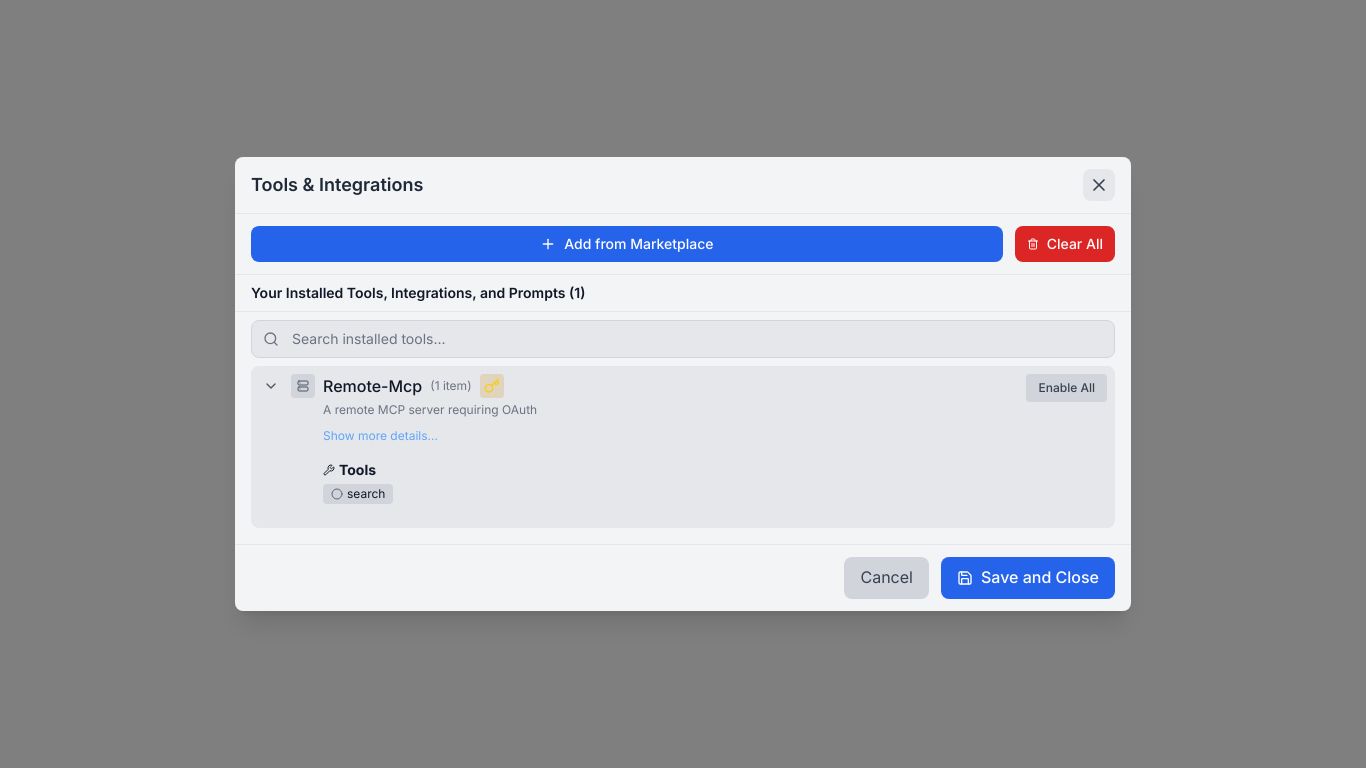
Test: ToolsPanel - MCP OAuth connect indicator › asks before discarding unsaved selections instead of redirecting away
The width and height of the screenshot is (1366, 768).
Click the button "search".
click(358, 494)  # box [323,484,394,504]
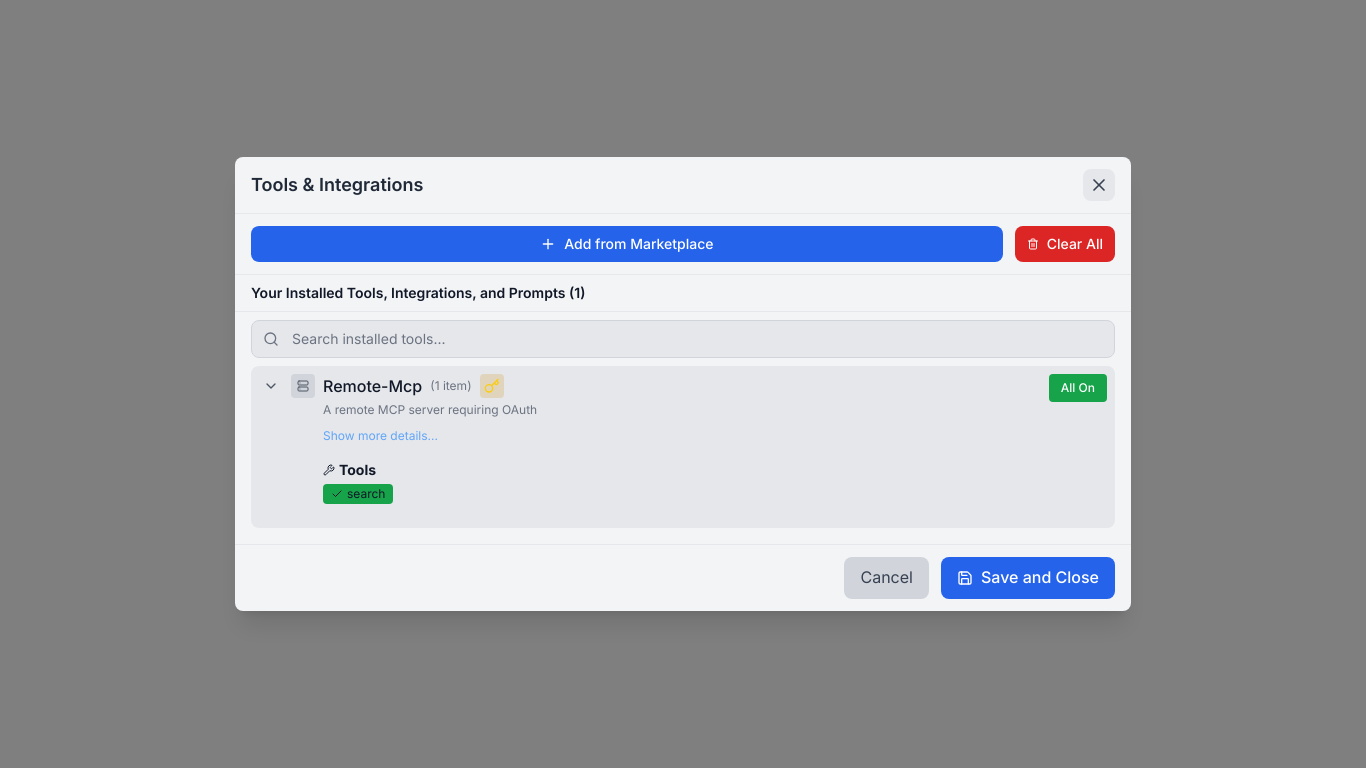
Click the button named "connect with oauth".
click(492, 386)  # box [480,374,504,398]
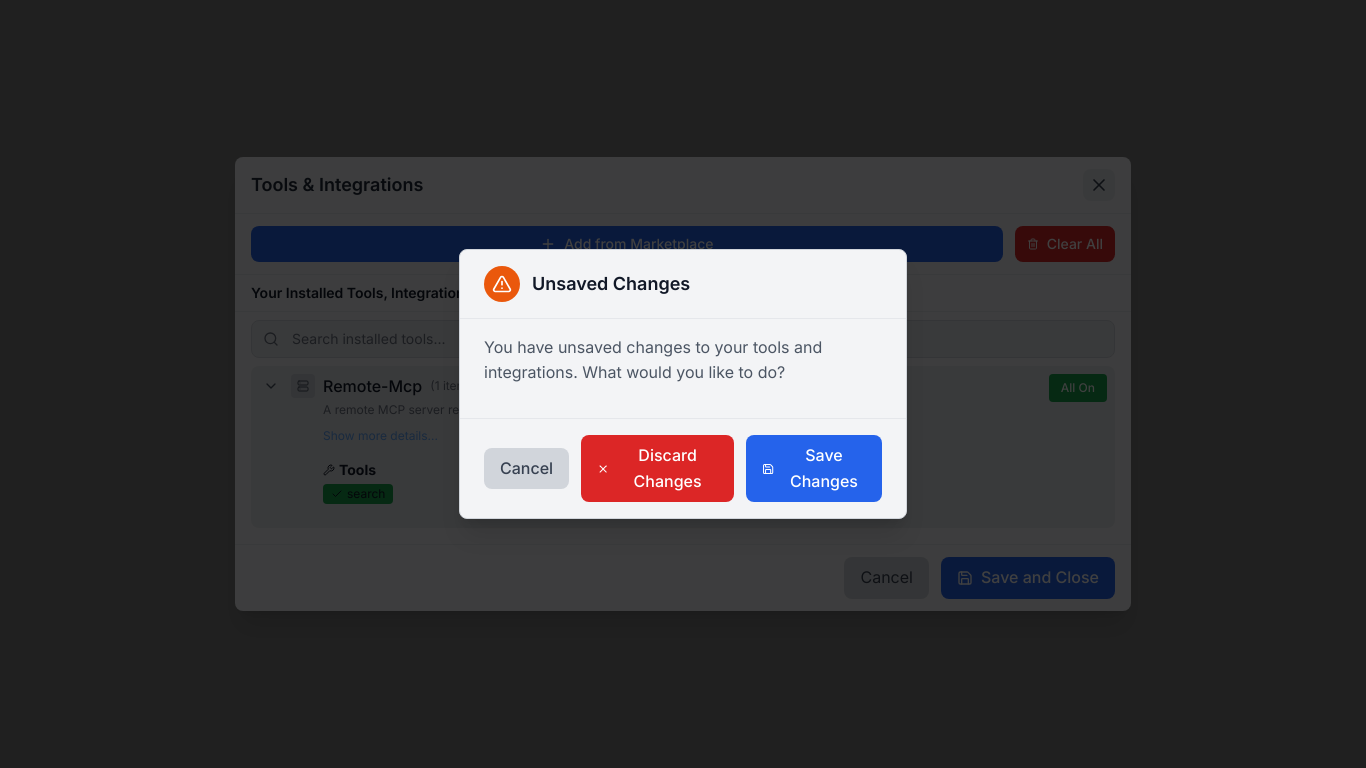
Check: the heading "Unsaved Changes" is shown, box [532,270,690,298]
